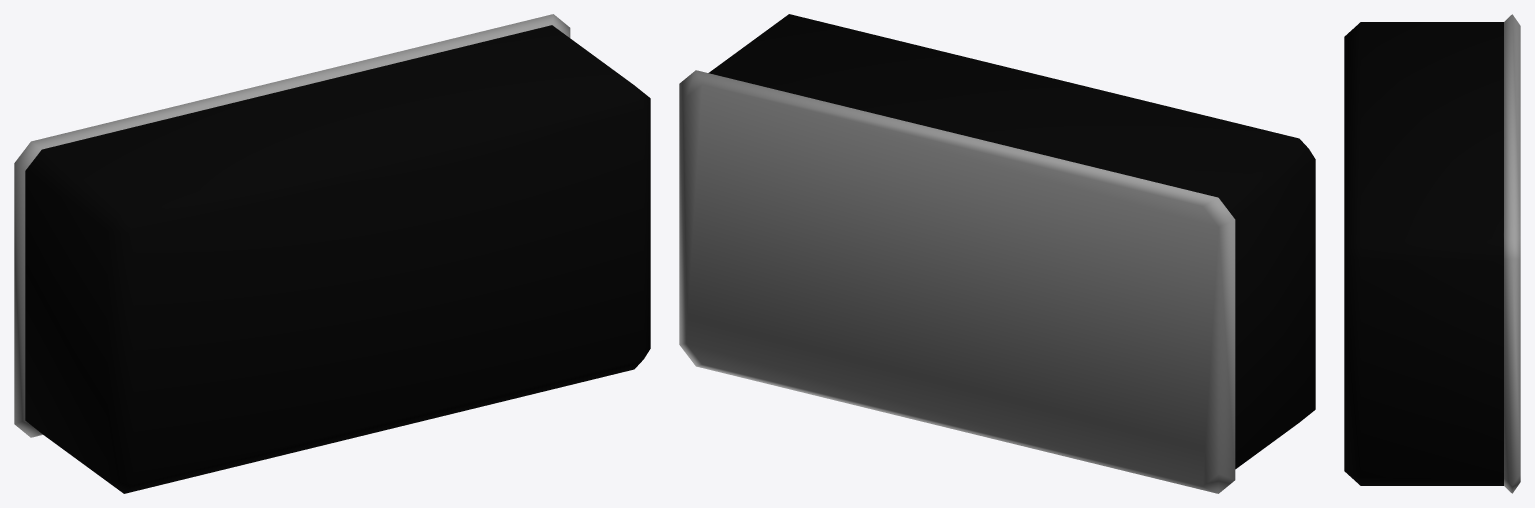
Rendered from eraser.glb.
3 views of the same model, side by side, from view 1: azimuth 30°, elevation 25°; view 2: azimuth 150°, elevation 25°; view 3: azimuth 270°, elevation 25° (orthographic). The views are drawn at different scales.
Parts seen in each view (by area): view 1: Cube; view 2: Cube; view 3: Cube.
Part boxes in pixels (x1,y1,x2,y2): Cube: (14,14,650,493); Cube: (679,14,1315,493); Cube: (1344,14,1520,493).
Size of the model in its own units: 4.1 by 2.09 by 1.29.
Materials: 1 (1 with a texture image).
